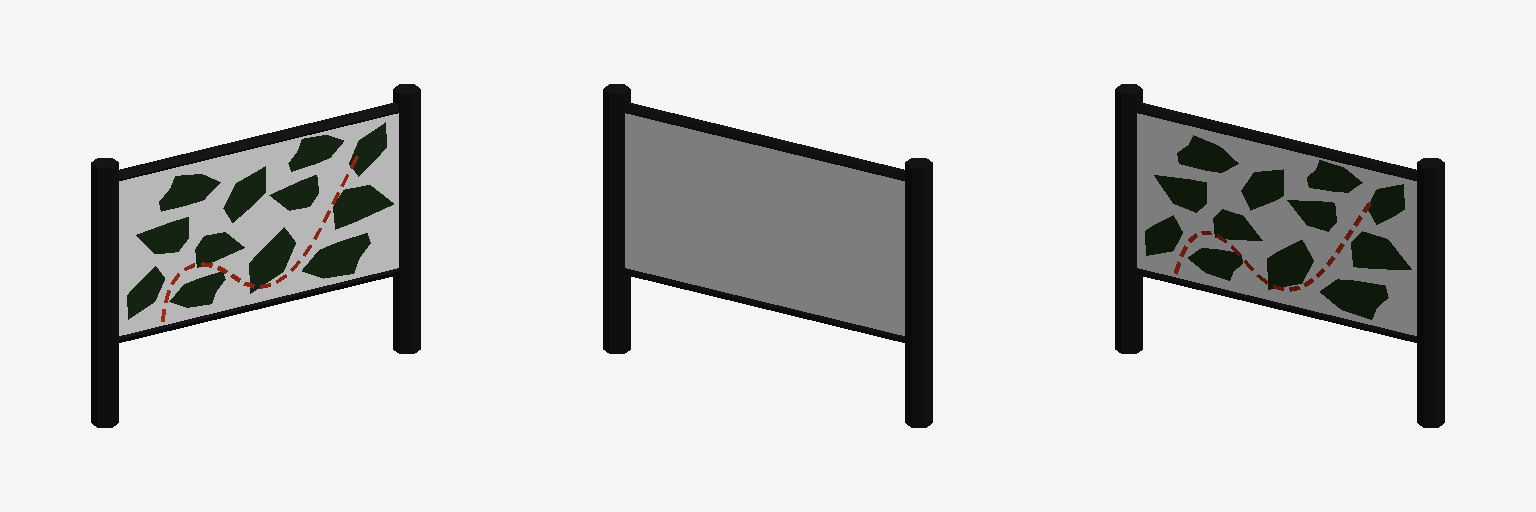
The model's file is Map.obj.
The picture shows the model from 3 angles: view 1: azimuth 30°, elevation 25°; view 2: azimuth 150°, elevation 25°; view 3: azimuth 330°, elevation 25°; orthographic projection.
Visible parts, largest first — view 1: Plane_Plane.009; view 2: Plane_Plane.009; view 3: Plane_Plane.009.
Boxes of the visible parts, x1,y1,x2,y2 form: Plane_Plane.009: [91, 84, 420, 427]; Plane_Plane.009: [603, 84, 932, 427]; Plane_Plane.009: [1115, 84, 1444, 427].
Size of the model in its own units: 1.81 by 1.39 by 0.1373.